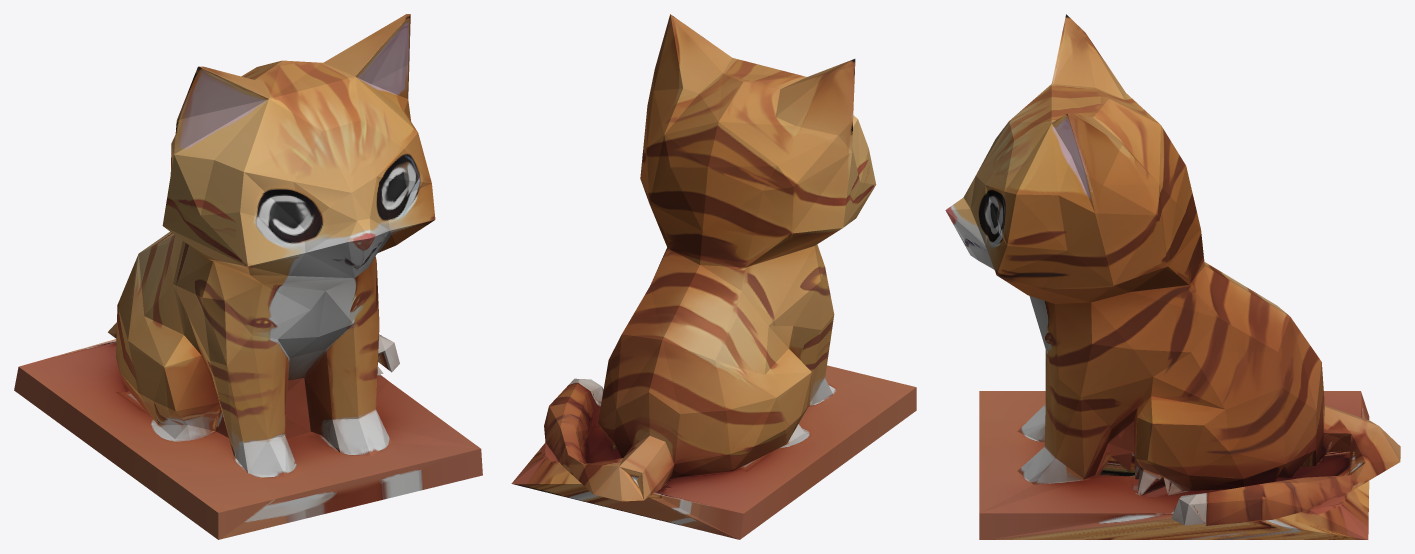
The picture shows the model from 3 angles, left to right: view 1: azimuth 30°, elevation 25°; view 2: azimuth 150°, elevation 25°; view 3: azimuth 270°, elevation 25°; orthographic projection. The views are drawn at different scales.
Parts seen in each view (by area): view 1: Figure; view 2: Figure; view 3: Figure.
Part boxes in pixels (box(x1,y1,x2,y2)): Figure: box(14, 14, 482, 539); Figure: box(511, 14, 916, 539); Figure: box(945, 14, 1400, 539).
Size of the model in its own units: 0.2811 by 0.4018 by 0.4.
Materials: 1 (1 with a texture image).
